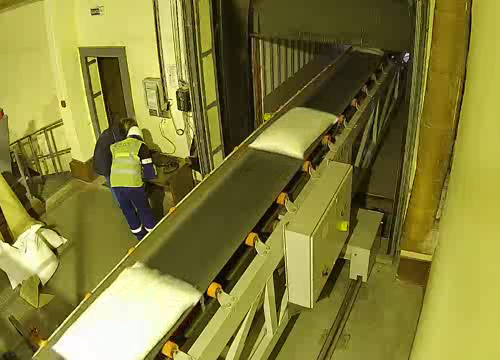bag: (42, 257, 211, 360), (242, 103, 343, 162), (347, 45, 389, 57)
